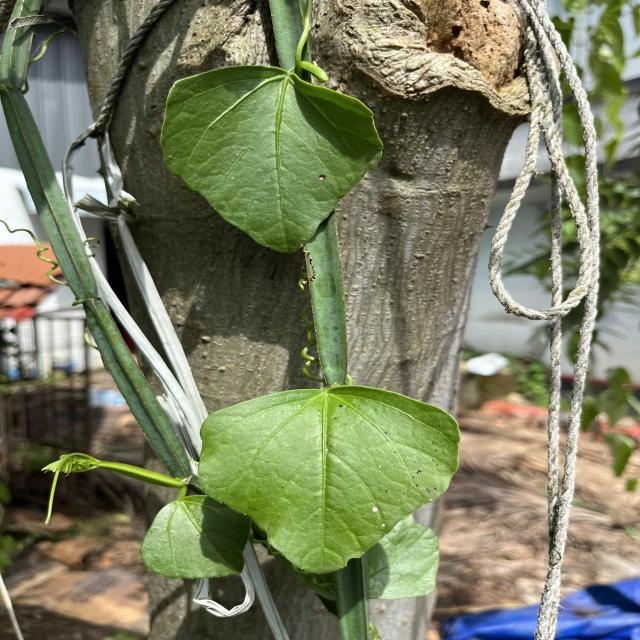Cissus quadrangularis: (195, 381, 464, 578), (156, 61, 387, 258), (137, 489, 255, 582)
